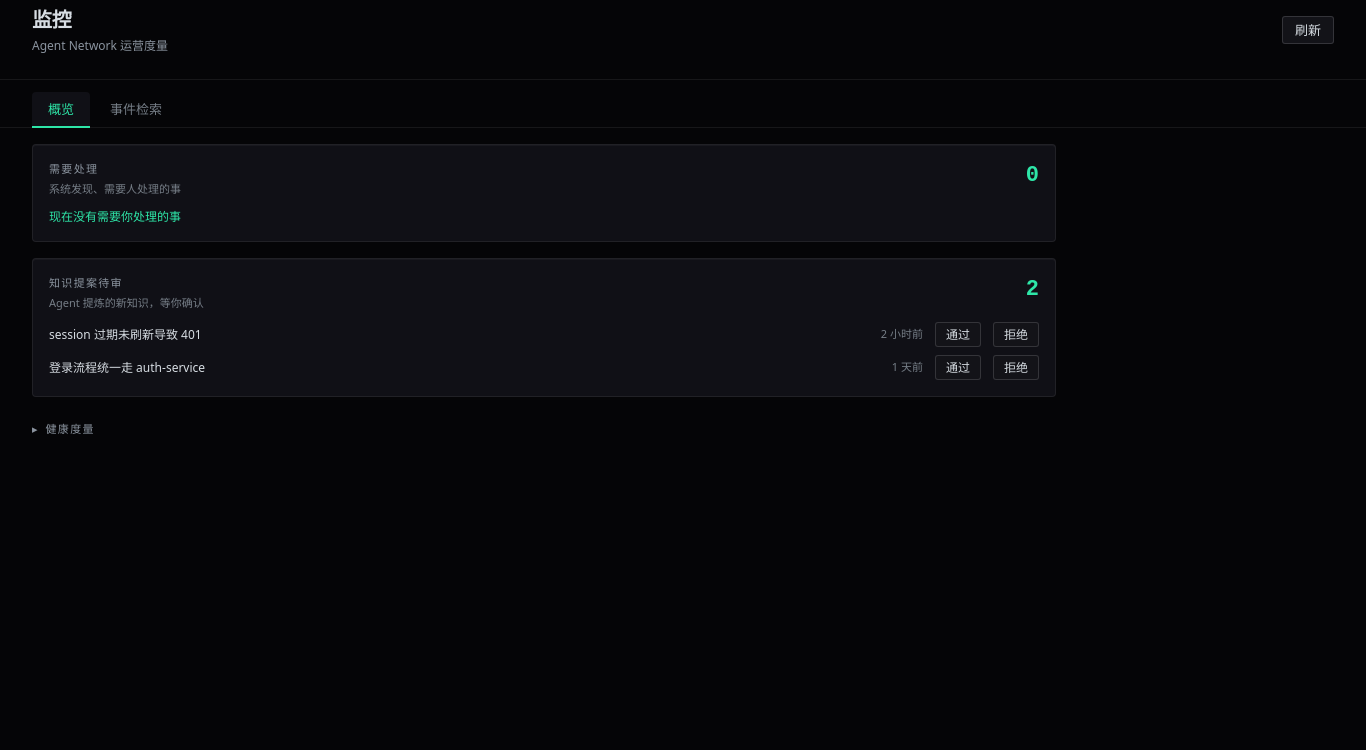
Test: MonitoringPage › 健康度量默认折叠，点击展开后各区块出现（§7.5 文案：标题+副标题+主数字）
This screenshot has width=1366, height=750.
Expected: the text "学习成效" is not shown
Click the text "健康度量".
click(70, 429)  # box [46,421,95,437]
(page scrolled)
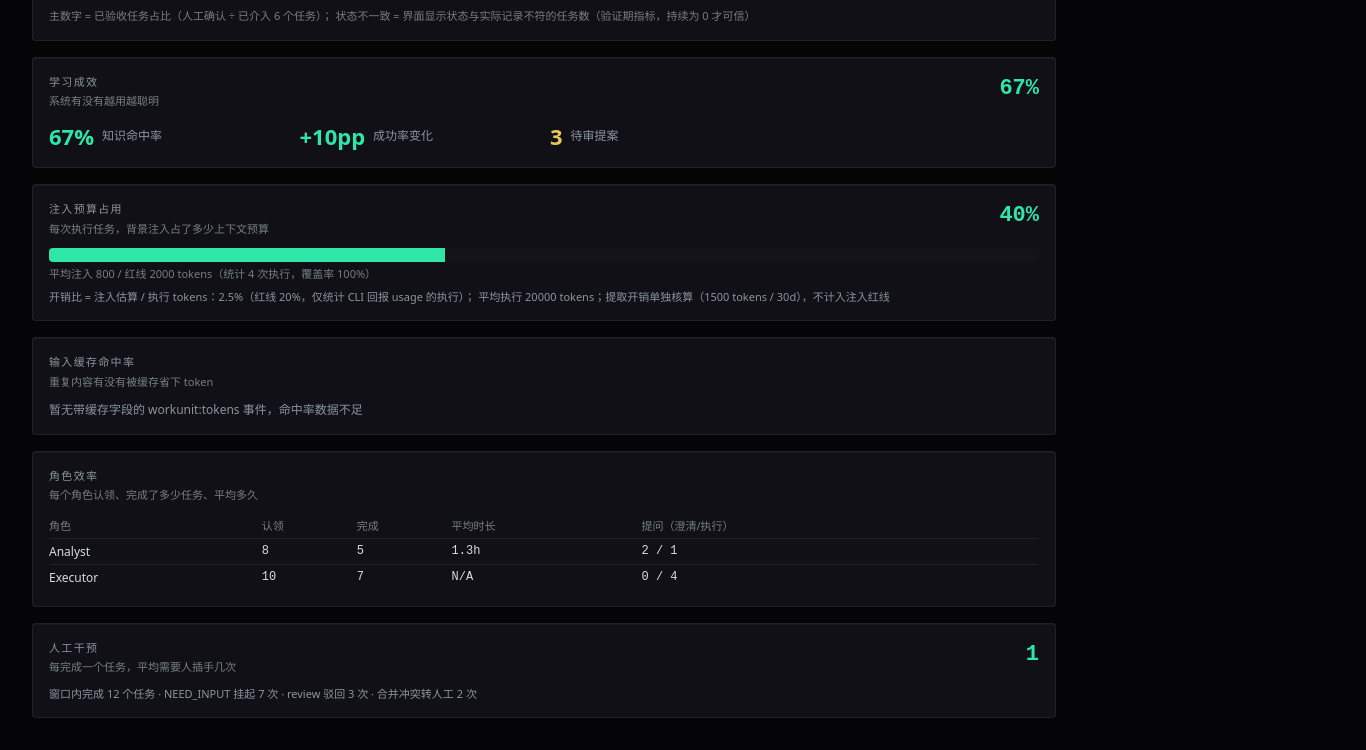
Now the heading "学习成效" is shown, box [49,74,98,89]
Now the text "系统有没有越用越聪明" is shown, box [49,93,159,109]
Now the heading "注入预算占用" is shown, box [49,201,123,216]
